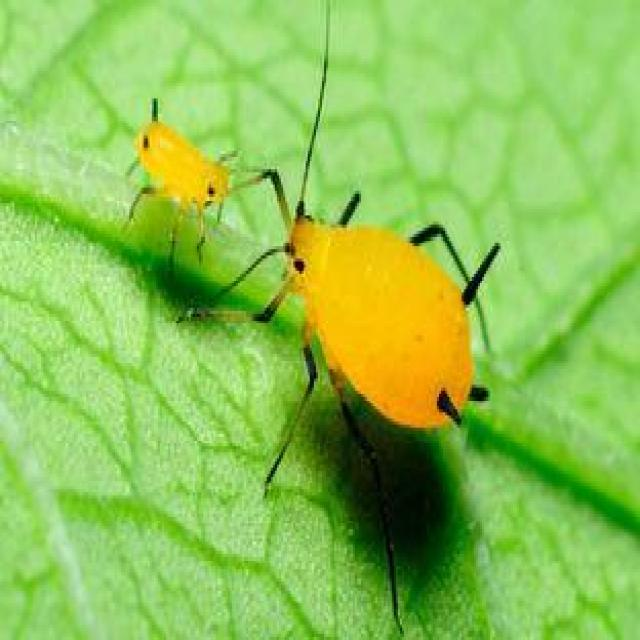Aphids: (225, 143, 518, 626), (71, 81, 266, 306)
